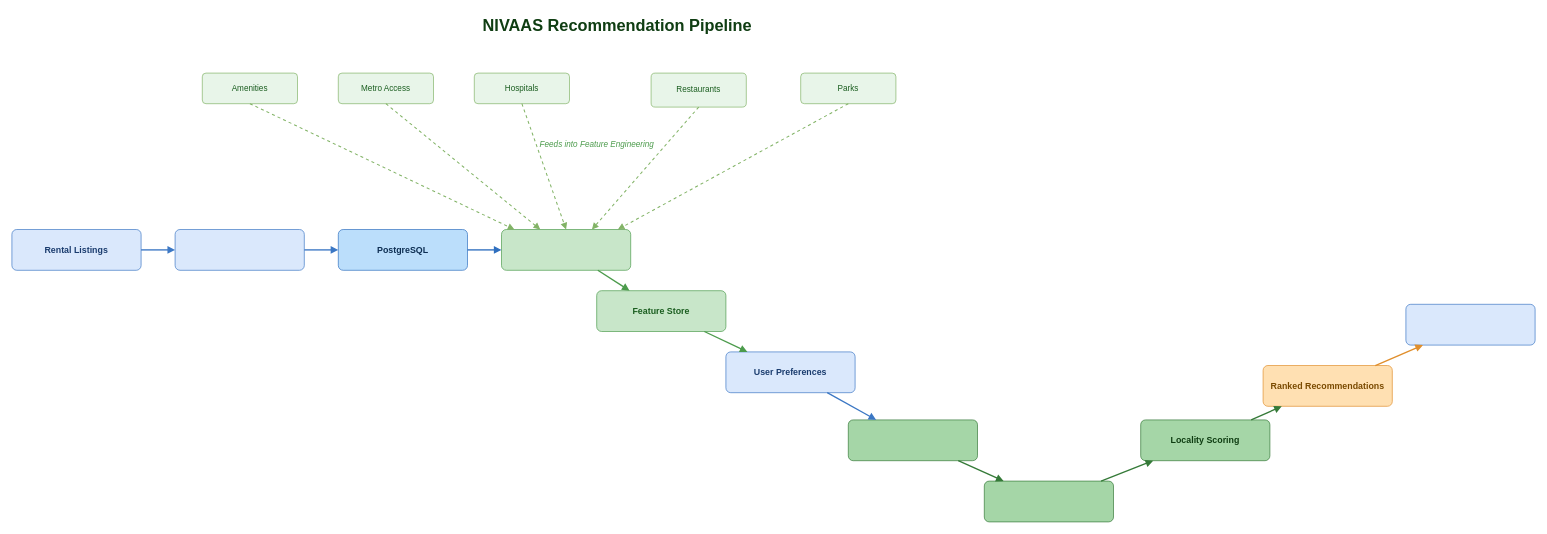
Some shapes in this 1547 by 534 pixel diagram are drawn without their labels. Here are the shapes that lost their labels. From the top down, the centre of each, then its label:
At point 239,249: "Data Ingestion".
At point 566,249: "Feature Engineering".
At point 1470,324: "Frontend Results".
At point 913,440: "Candidate Filtering".
At point 1049,501: "Cosine Similarity".
